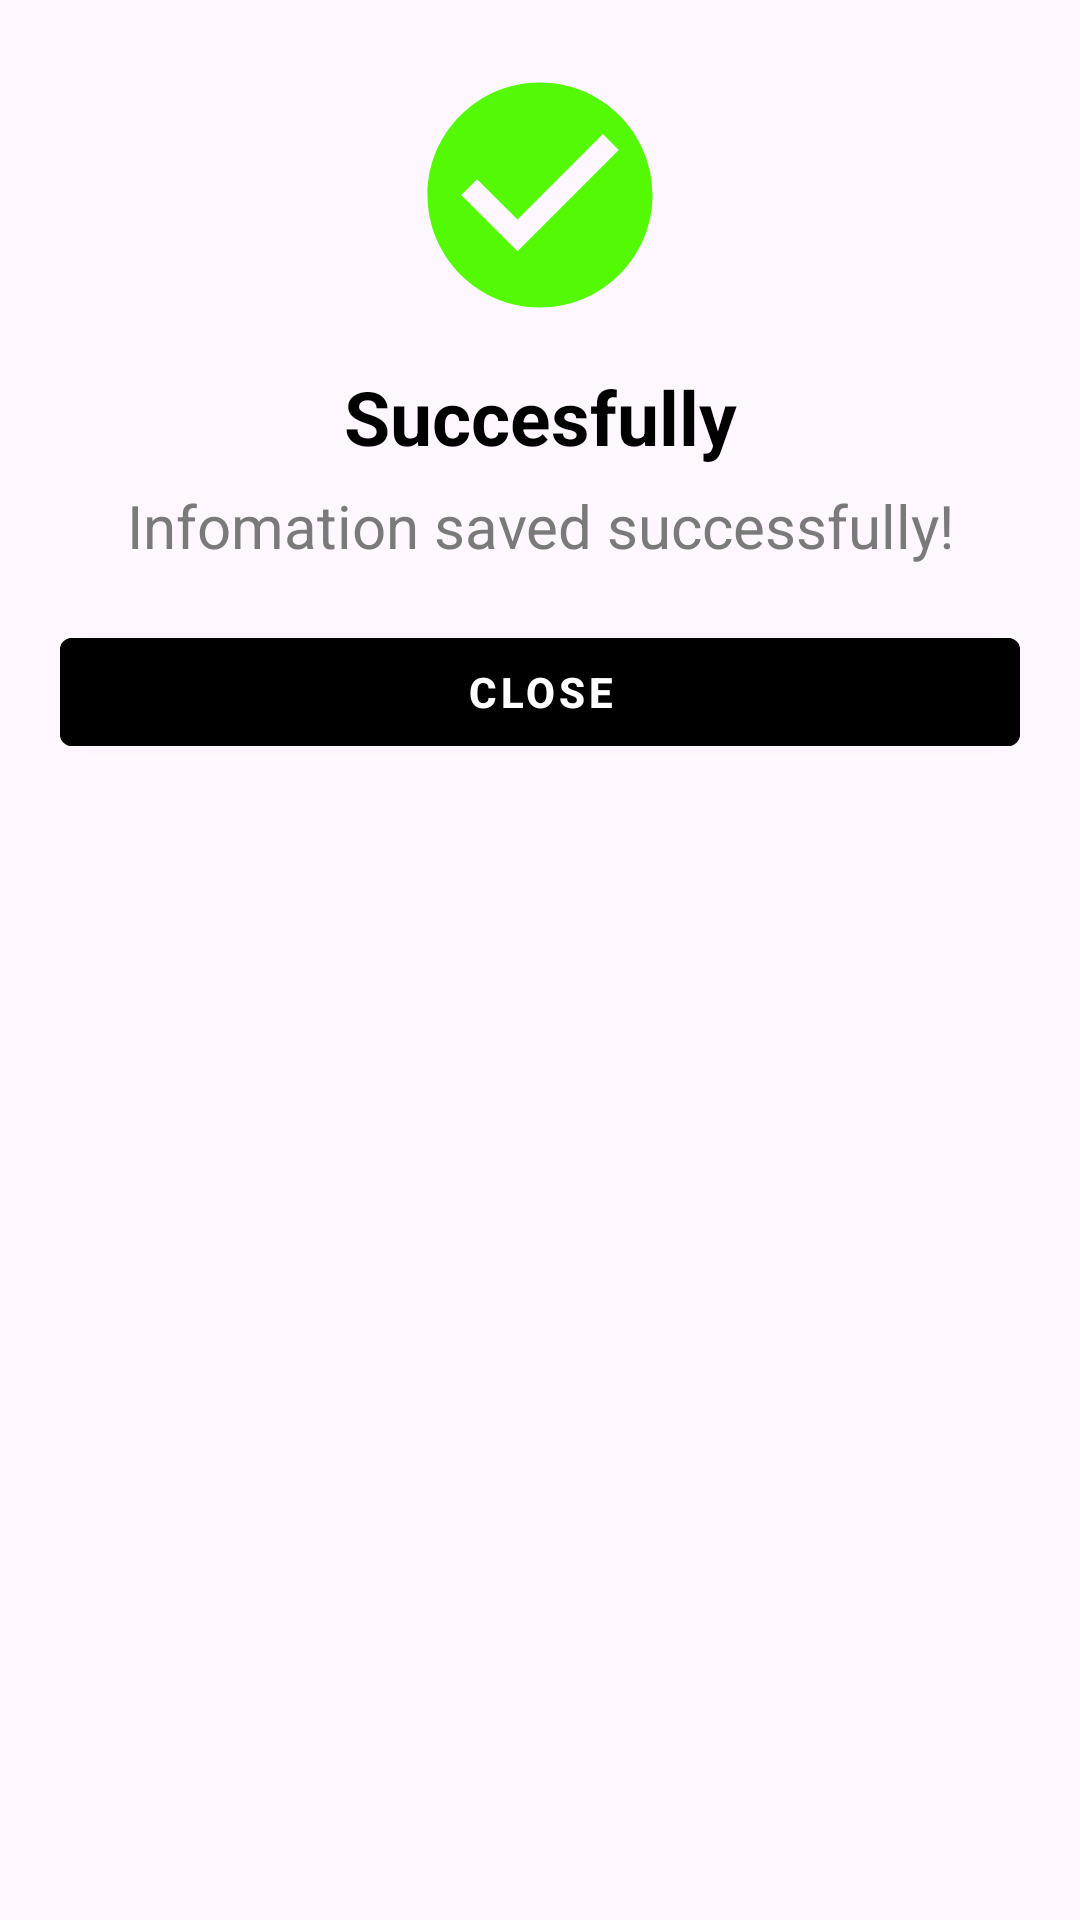

Icon click points for this 1080*1920 phone screenshot, format point (x, y):
Thành công: point (540, 195)
